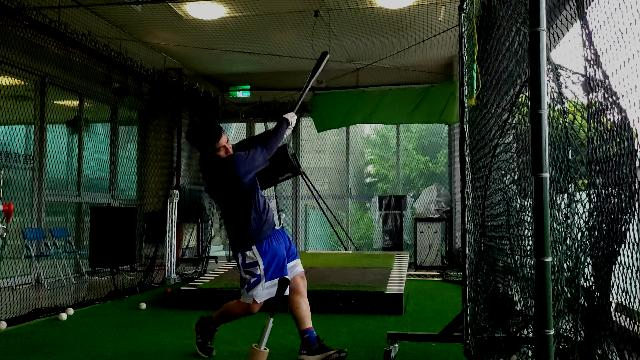bat: (292, 51, 332, 115)
